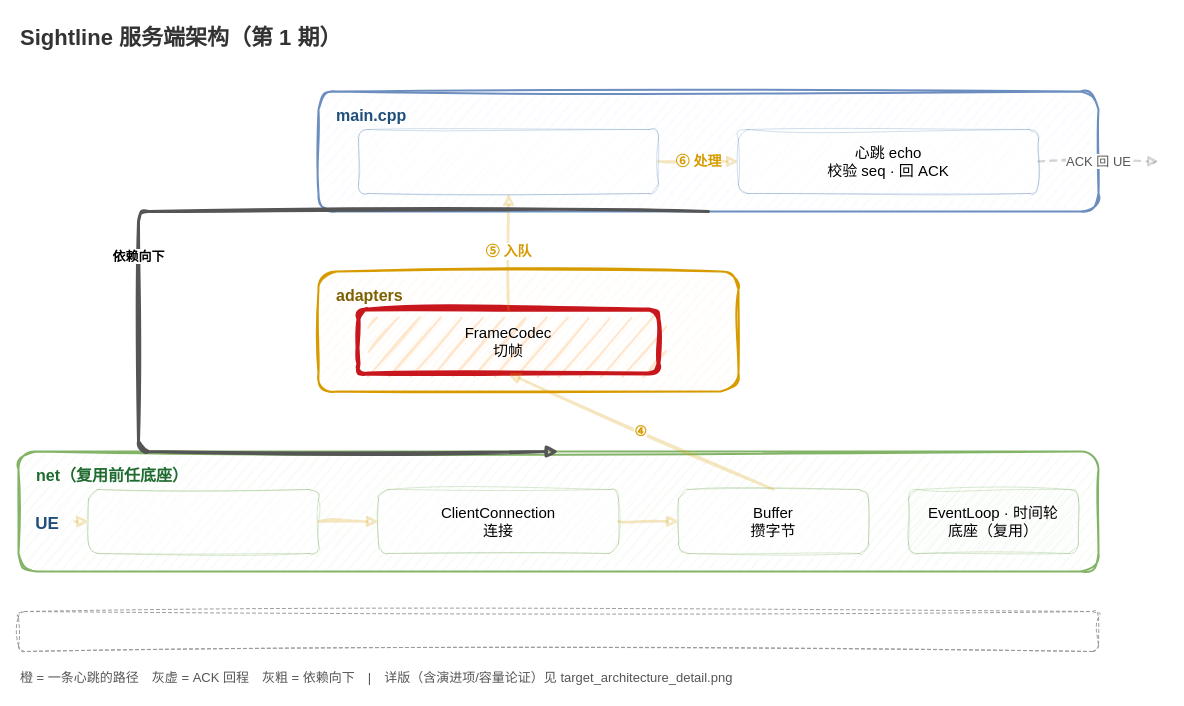
This 1184x706 diagram has some shape labels left out. Each missing label, with the centre of its shape:
Acceptor 接客: point 203,521
application / domain —— 第 2 期（留空）: point 558,631
帧队列 每 33ms 处理一批: point 508,161
